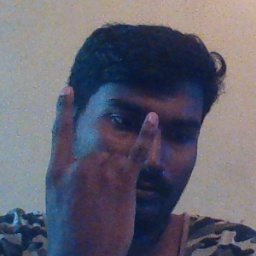V: (36, 84, 164, 252)
